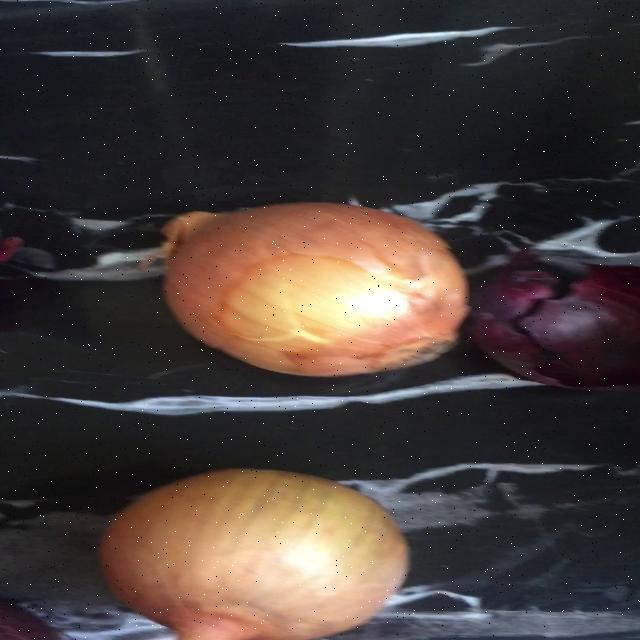Onion: (162, 203, 467, 377), (99, 470, 408, 640)
